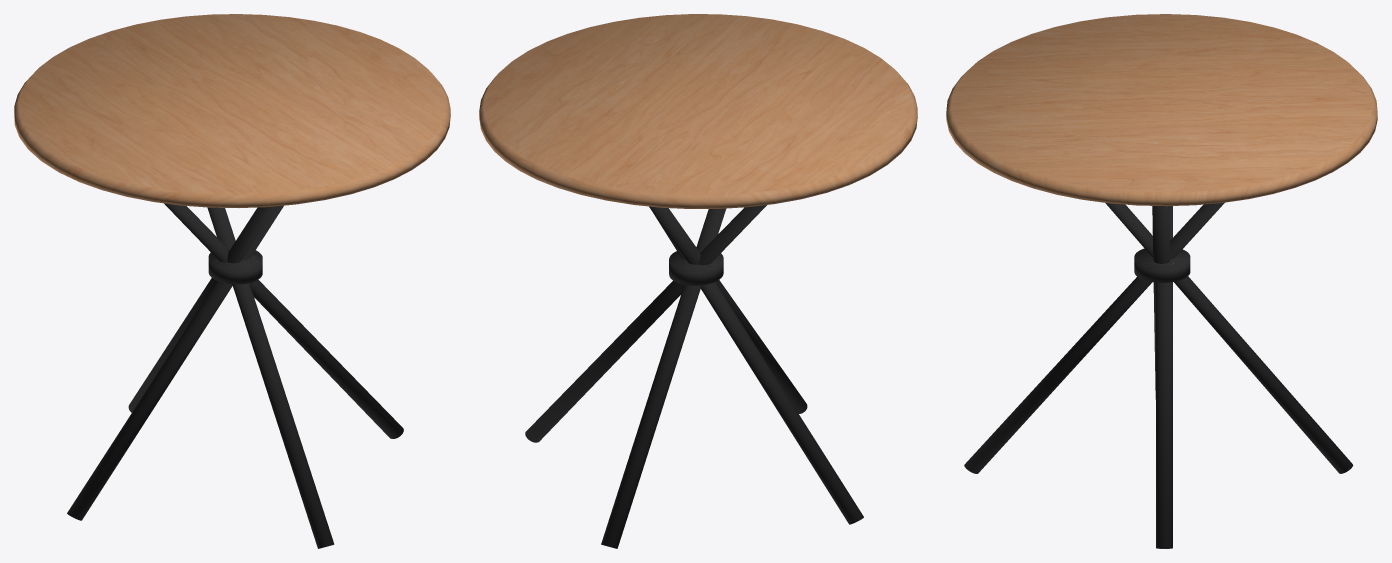
Rendered from mesa.gltf.
3 renders of one model, left to right at view 1: azimuth 30°, elevation 25°; view 2: azimuth 150°, elevation 25°; view 3: azimuth 270°, elevation 25°, orthographic.
Visible parts, largest first — view 1: Círculo Bézier.001; view 2: Círculo Bézier.001; view 3: Círculo Bézier.001.
Boxes of the visible parts, bbox=[...] form: Círculo Bézier.001: bbox=[14, 14, 450, 548]; Círculo Bézier.001: bbox=[479, 14, 917, 548]; Círculo Bézier.001: bbox=[946, 14, 1377, 548].
Size of the model in its own units: 7.26 by 6.94 by 7.26.
2 materials, 2 textured.
